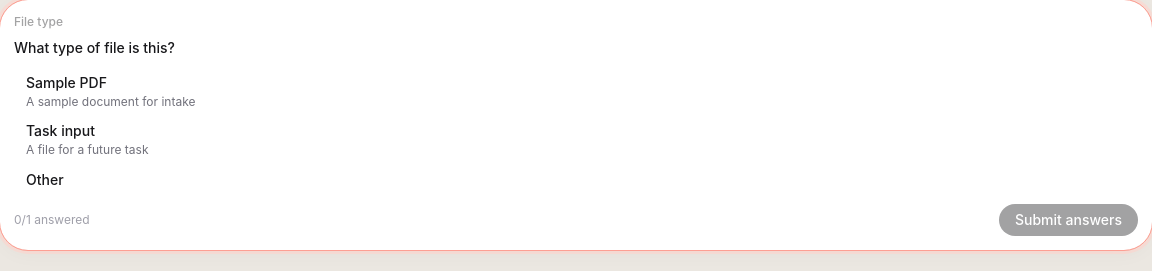
Scenario: QuestionOptions › reveals a text input when "Other" is selected
The image size is (1152, 271).
Click the button "Other". click: (45,180)
box: [14, 164, 1138, 196]
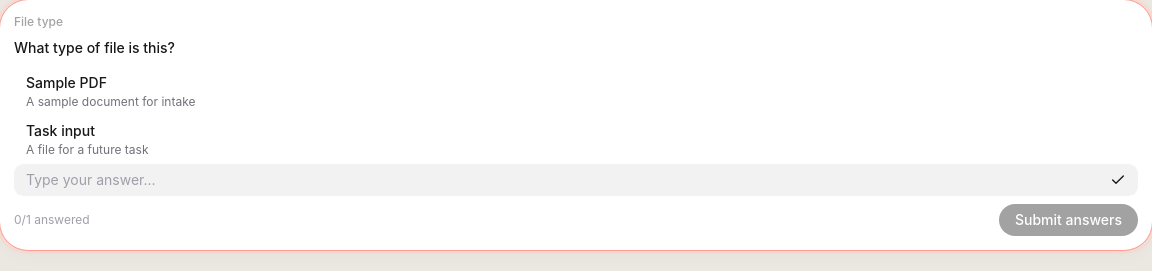
Expected: the text box is shown, [26, 170, 1110, 190]
